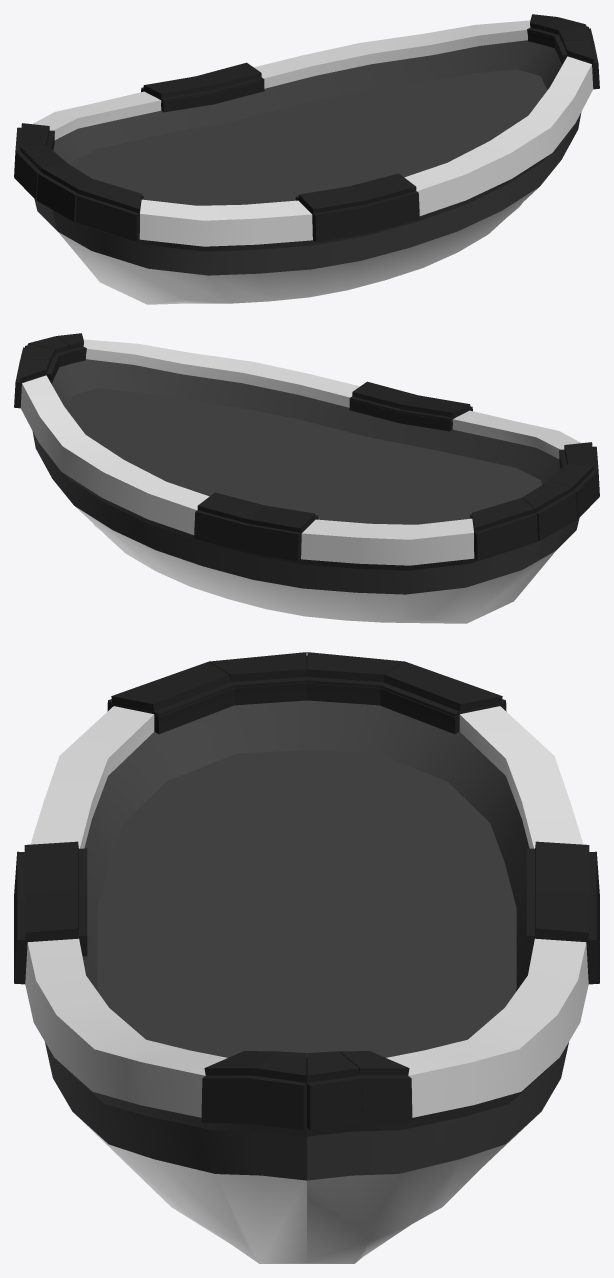
Rendered from SM_HullPlus.fbx.
3 views of the same model, one above another, from view 1: azimuth 30°, elevation 25°; view 2: azimuth 150°, elevation 25°; view 3: azimuth 270°, elevation 25° (orthographic). The views are drawn at different scales.
Visible parts, largest first — view 1: ShipBodyPlus; view 2: ShipBodyPlus; view 3: ShipBodyPlus.
Part boxes in pixels (bbox=[...]): ShipBodyPlus: bbox=[14, 14, 599, 304]; ShipBodyPlus: bbox=[14, 333, 599, 623]; ShipBodyPlus: bbox=[14, 652, 599, 1263].
Size of the model in its own units: 462 by 140 by 254.
